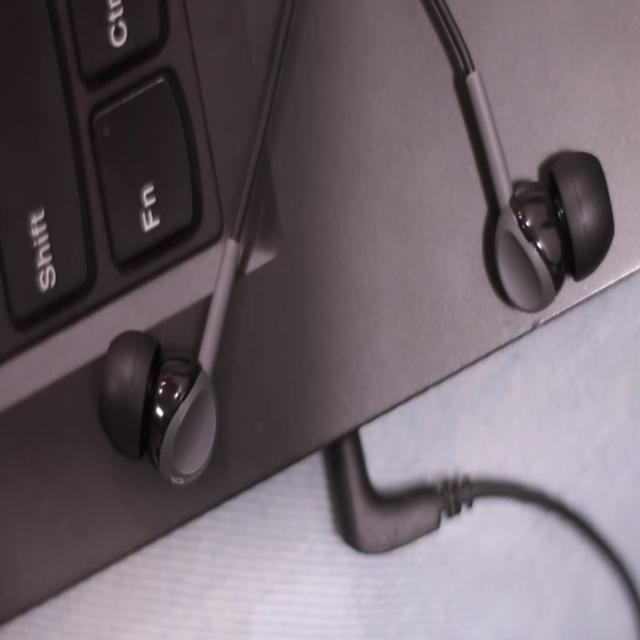Earphone: (94, 0, 616, 564)
